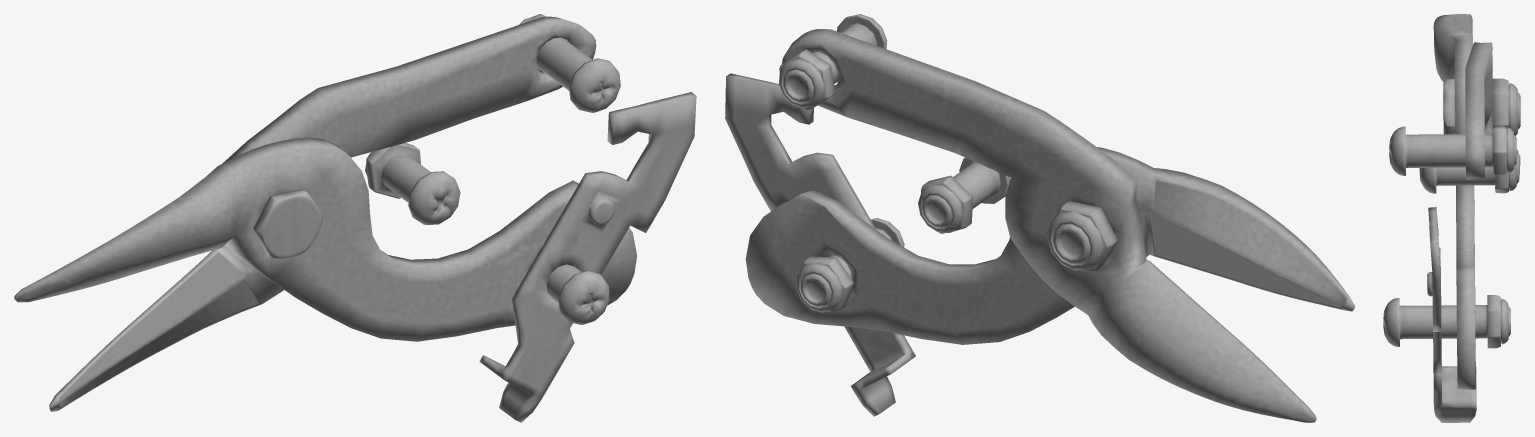
File: HorticulturalScissorsBlade.obj
3 views of the same model, side by side, from view 1: azimuth 30°, elevation 25°; view 2: azimuth 150°, elevation 25°; view 3: azimuth 270°, elevation 25° (orthographic). The views are drawn at different scales.
Parts seen in each view (by area): view 1: HorticulturalScissorsBlade; view 2: HorticulturalScissorsBlade; view 3: HorticulturalScissorsBlade.
Boxes of the visible parts, <box> form: HorticulturalScissorsBlade: <box>14,14,696,422</box>; HorticulturalScissorsBlade: <box>725,14,1354,422</box>; HorticulturalScissorsBlade: <box>1383,14,1520,422</box>.
Bounding box in the file's own units: 0.1171 × 0.0647 × 0.0247.
1 material, 1 textured.
